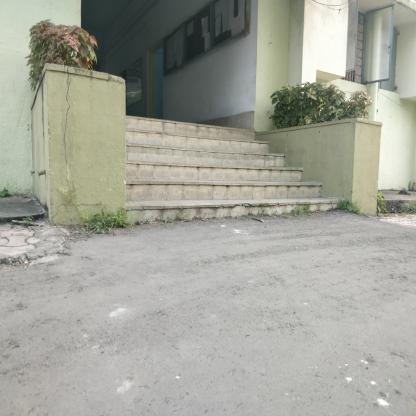stairs: (134, 141, 309, 225)
